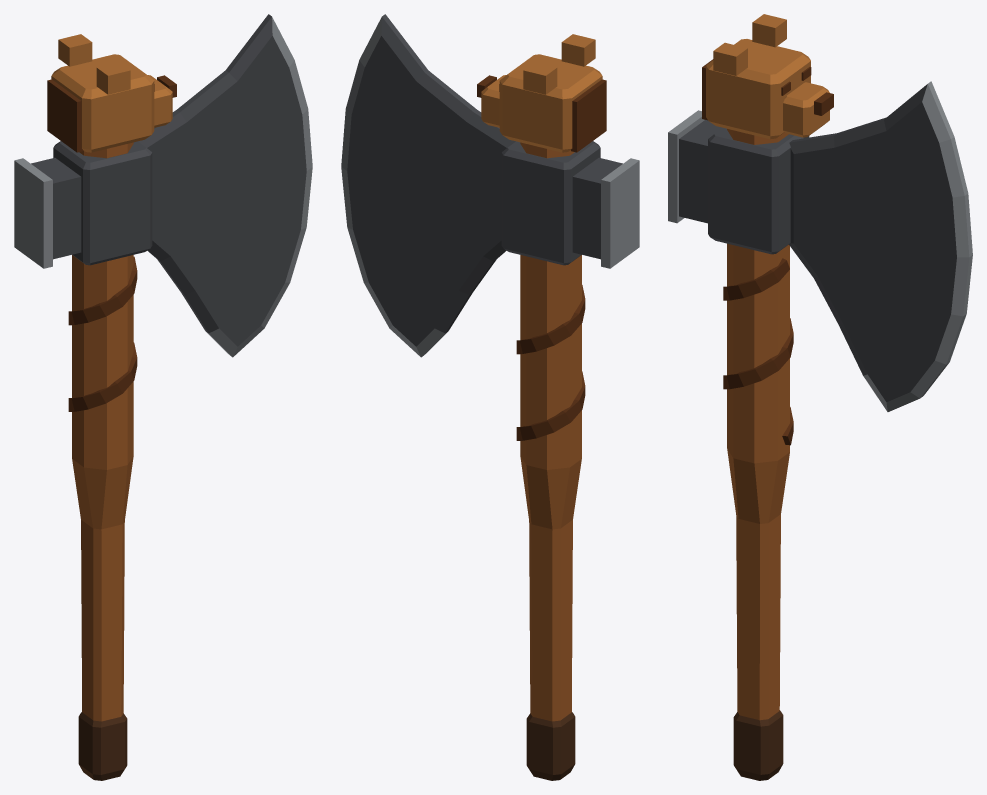
File: chopper_axe_bear.fbx
3 renders of one model, left to right at view 1: azimuth 30°, elevation 25°; view 2: azimuth 150°, elevation 25°; view 3: azimuth 330°, elevation 25°, orthographic. The views are drawn at different scales.
Visible parts, largest first — view 1: chopper_axe_bear; view 2: chopper_axe_bear; view 3: chopper_axe_bear.
Boxes of the visible parts, x1,y1,x2,y2 form: chopper_axe_bear: [14, 14, 312, 780]; chopper_axe_bear: [341, 14, 639, 780]; chopper_axe_bear: [668, 14, 972, 780].
Size of the model in its own units: 0.374 by 0.912 by 0.114.
